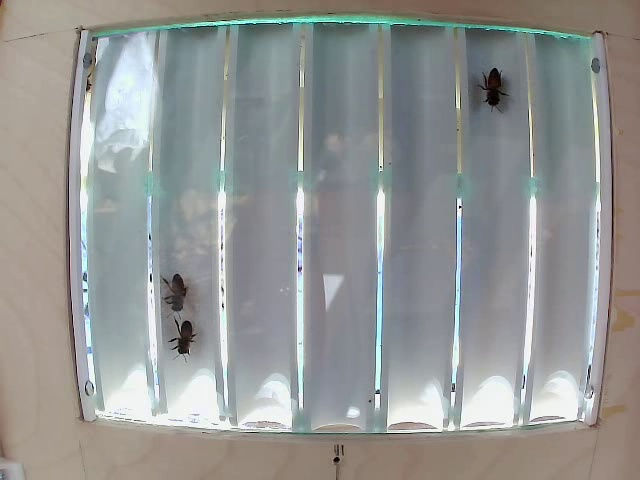bee: (469, 54, 513, 123), (167, 307, 206, 354), (160, 266, 196, 313)
